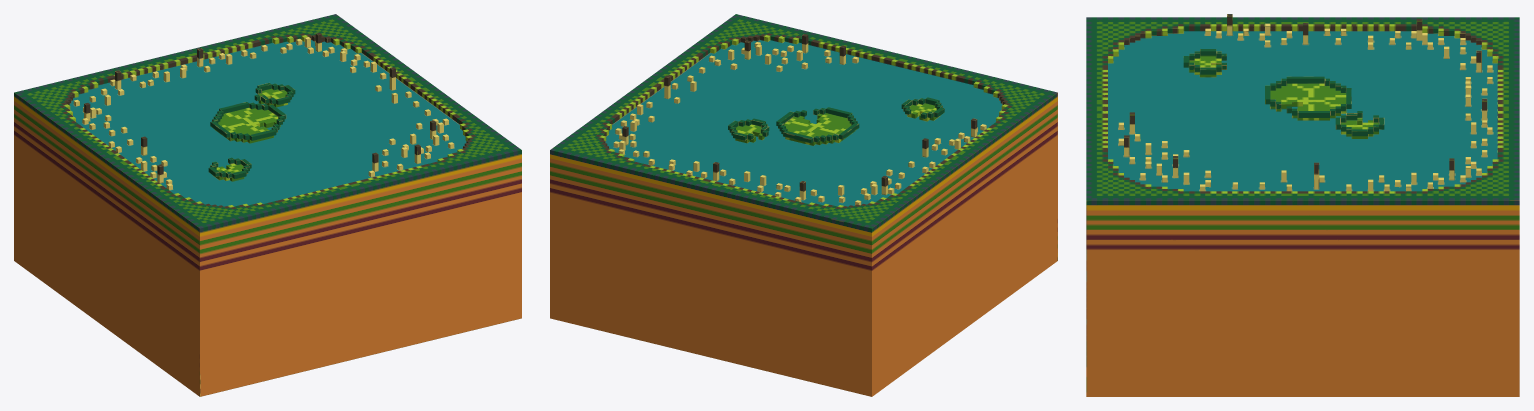
Rendered from swamp_tile.glb.
3 renders of one model, left to right at view 1: azimuth 30°, elevation 25°; view 2: azimuth 150°, elevation 25°; view 3: azimuth 270°, elevation 25°, orthographic. The views are drawn at different scales.
Visible parts, largest first — view 1: swamp_tile; view 2: swamp_tile; view 3: swamp_tile.
Part boxes in pixels (x1,y1,x2,y2): swamp_tile: [14, 14, 521, 396]; swamp_tile: [550, 14, 1057, 396]; swamp_tile: [1086, 14, 1519, 396].
Bounding box in the file's own units: 8 × 4.4 × 8.
Materials: 1 (1 with a texture image).
